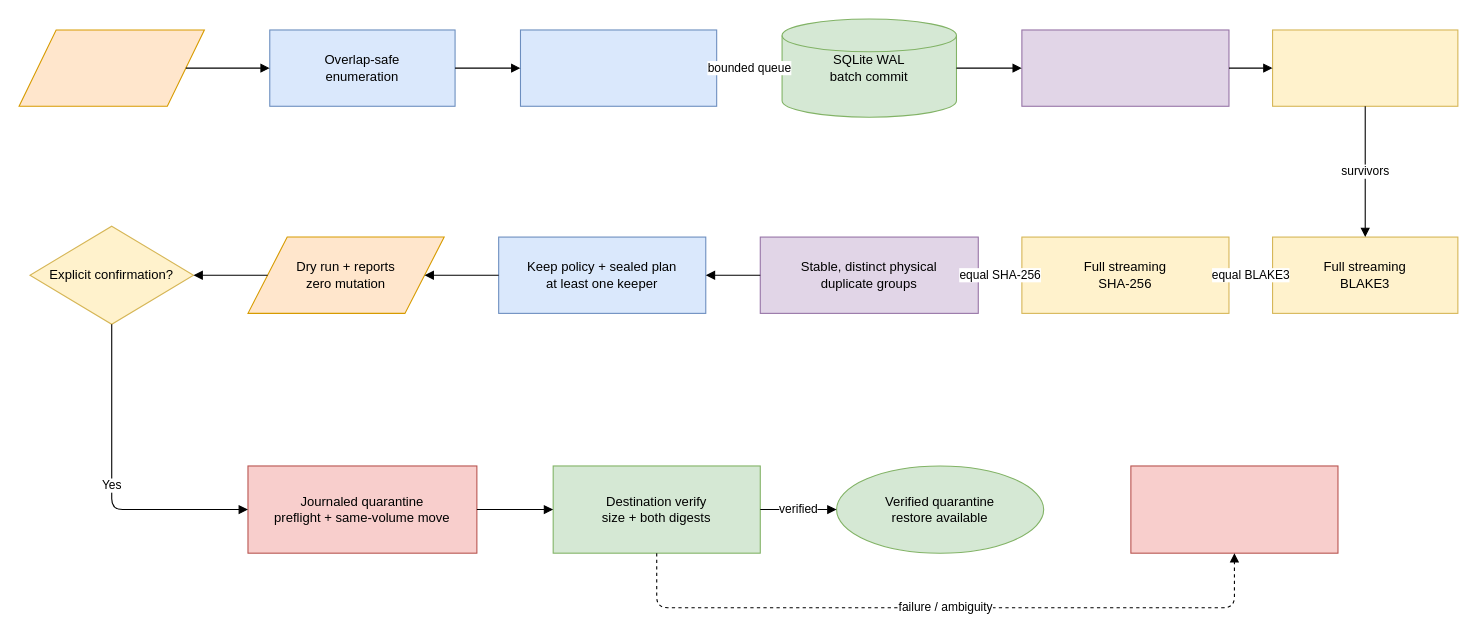
Image size: 1477x635. Some labels were removed from this diagram. Here are the shapes that lost their labels. From the top down, the box of each, then its label:
(18, 29, 204, 106): Selected roots (no auto-scan)
(519, 29, 717, 106): Metadata + identity before snapshot
(1021, 29, 1229, 106): Candidate grouping name + exact size / size
(1271, 29, 1458, 106): Quick sampled hash reject only
(1130, 465, 1338, 553): Recovery required preserve all copies
